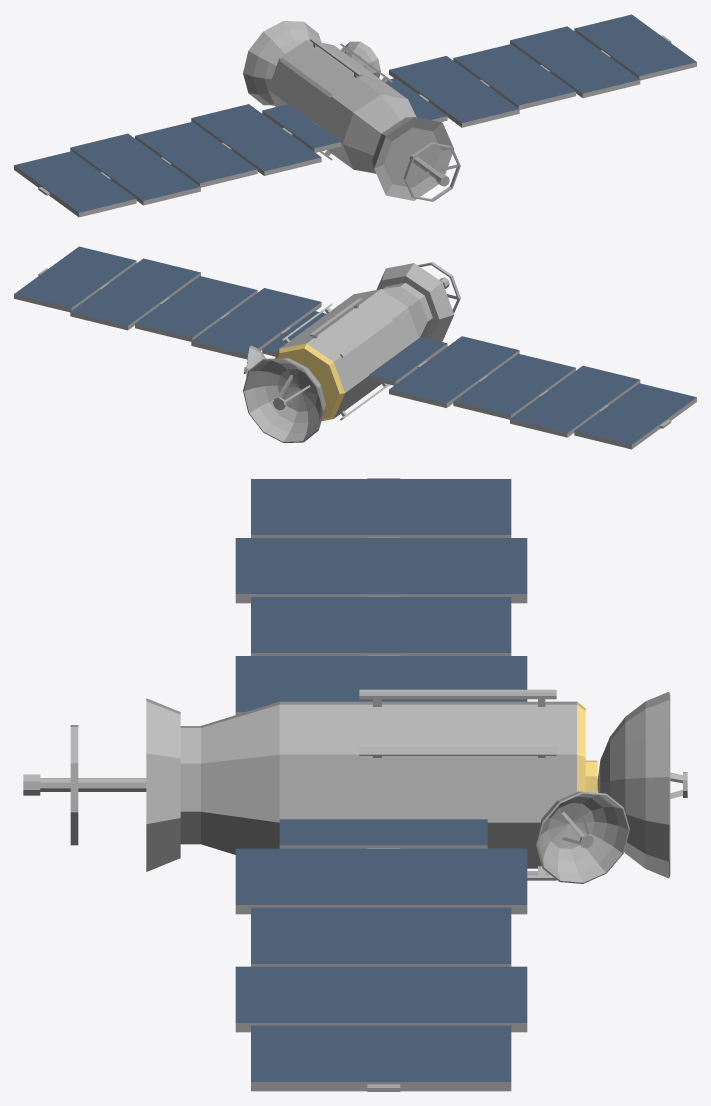
Rendered from satellite.dae.
3 renders of one model, top to bottom at view 1: azimuth 30°, elevation 25°; view 2: azimuth 150°, elevation 25°; view 3: azimuth 270°, elevation 25°, orthographic. The views are drawn at different scales.
Parts seen in each view (by area): view 1: satellite; view 2: satellite; view 3: satellite.
Part boxes in pixels (left/top/right/bottom): satellite: left=14, top=14, right=696, bottom=217; satellite: left=14, top=246, right=696, bottom=449; satellite: left=23, top=478, right=687, bottom=1091.
Bounding box in the file's own units: 21.44 × 9.87 × 2.98.
